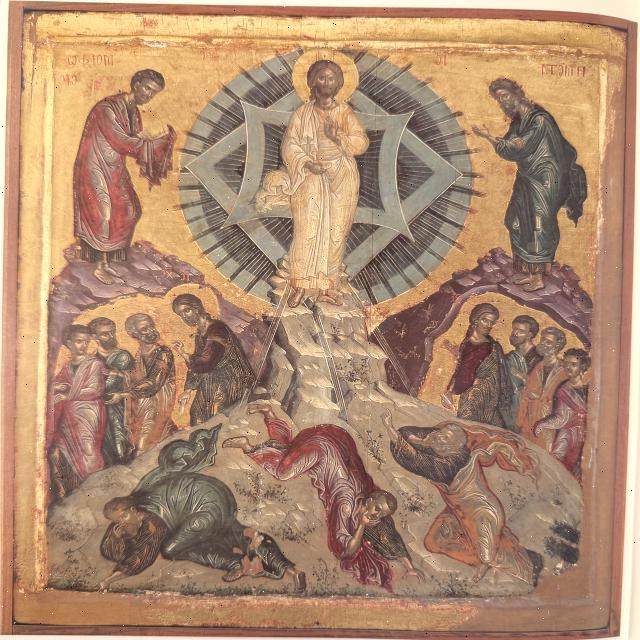aura: (288, 49, 362, 109)
christ_pantocrator: (177, 43, 471, 298)
